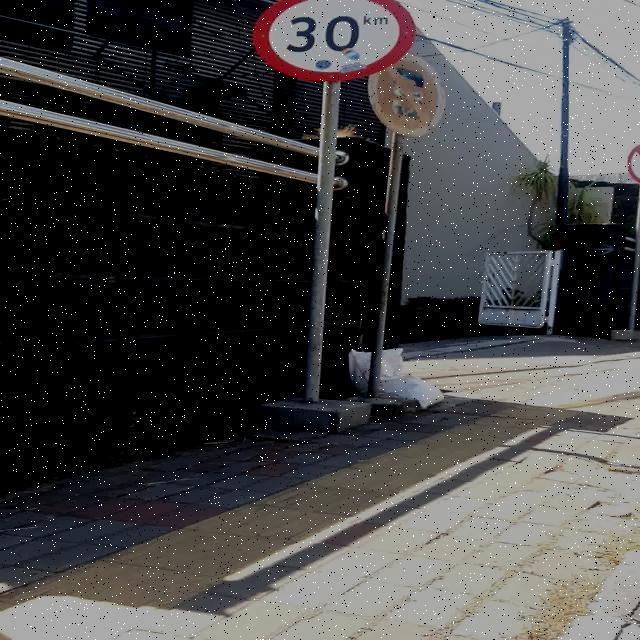Kecepatan Maks. 30 km: (253, 0, 415, 81)
